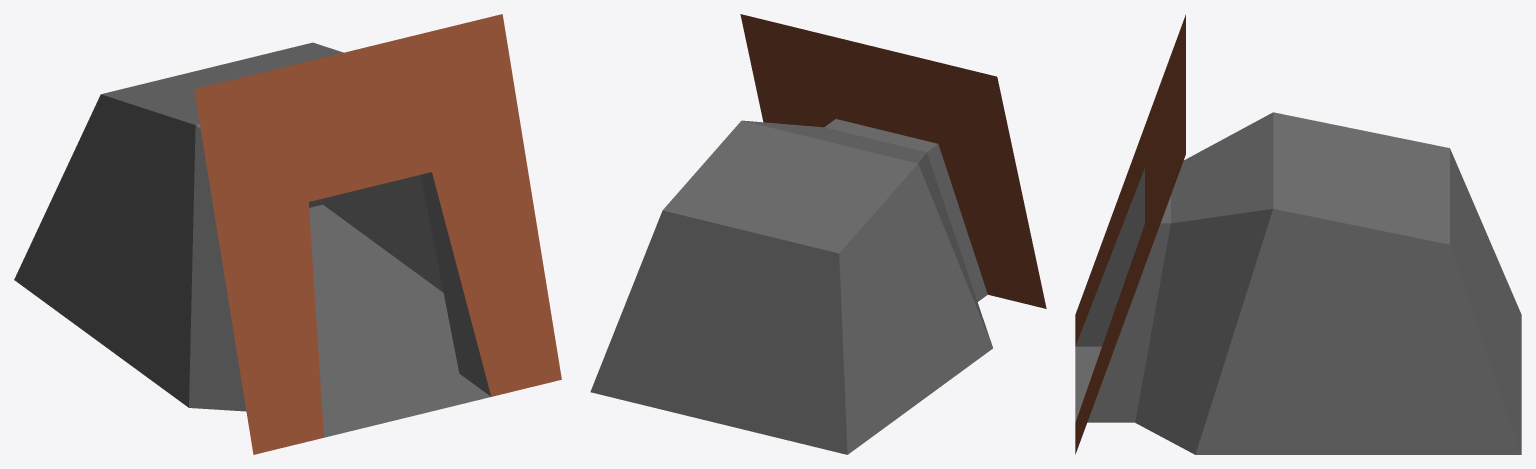
Rendered from cave1.fbx.
3 views of the same model, side by side, from view 1: azimuth 30°, elevation 25°; view 2: azimuth 150°, elevation 25°; view 3: azimuth 270°, elevation 25° (orthographic). The views are drawn at different scales.
Parts seen in each view (by area): view 1: entrance; view 2: entrance; view 3: entrance.
Part boxes in pixels (x1,y1,x2,y2): entrance: (14,14,561,454); entrance: (590,14,1046,454); entrance: (1075,14,1521,454).
Bounding box in the file's own units: 6.02 × 8.07 × 6.
